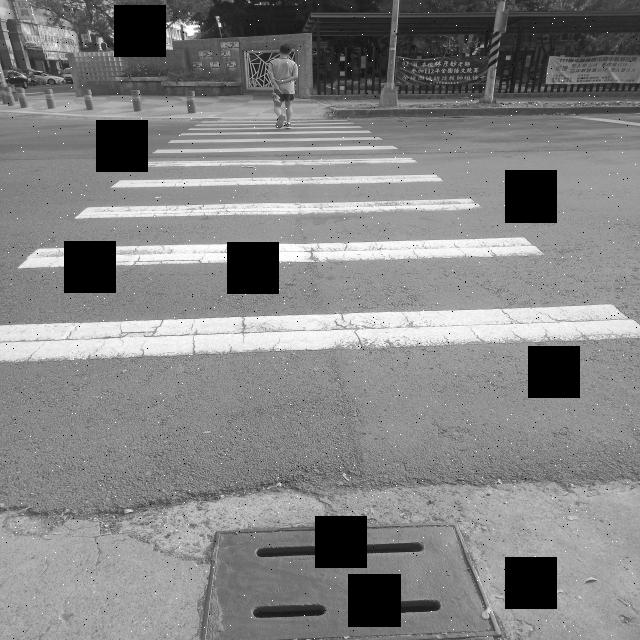person: (268, 45, 298, 129)
zebra crossing: (0, 118, 640, 369)
